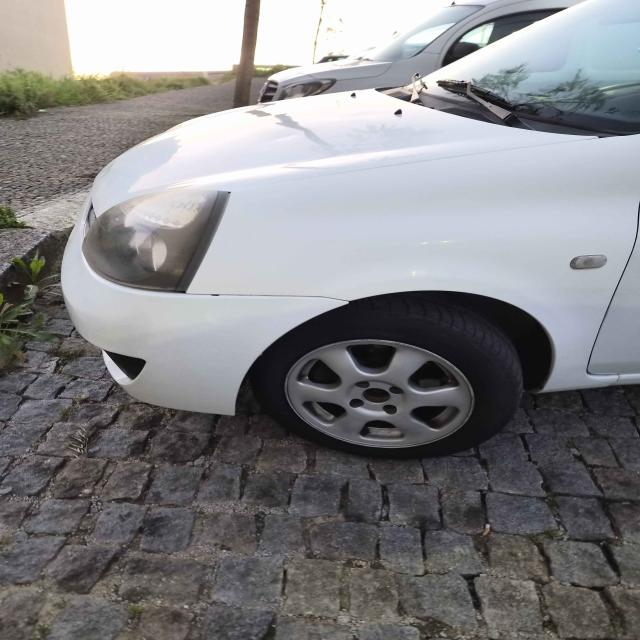jante: (284, 339, 476, 449)
parafuso: (389, 384, 403, 394), (350, 397, 363, 407), (356, 380, 369, 388), (385, 404, 395, 412)
roda: (250, 293, 522, 460)
